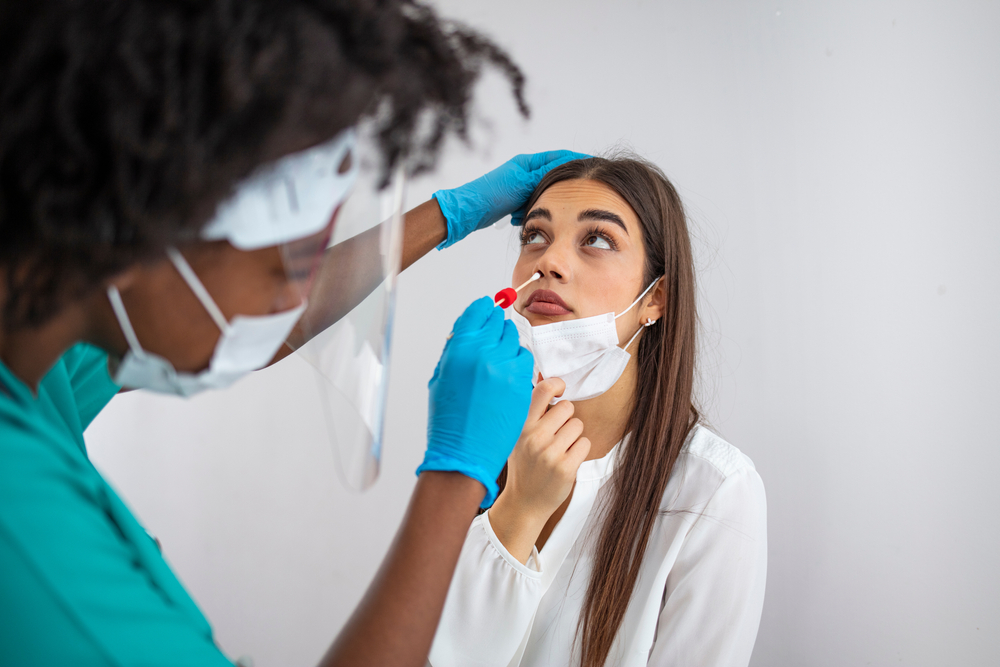with_incorrect_mask: (507, 205, 630, 367)
